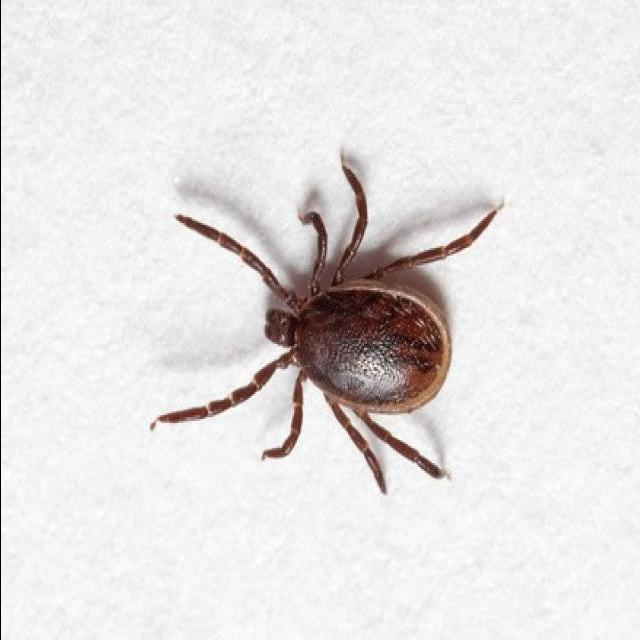Ixodes Ricinus-M: (149, 150, 502, 496)
